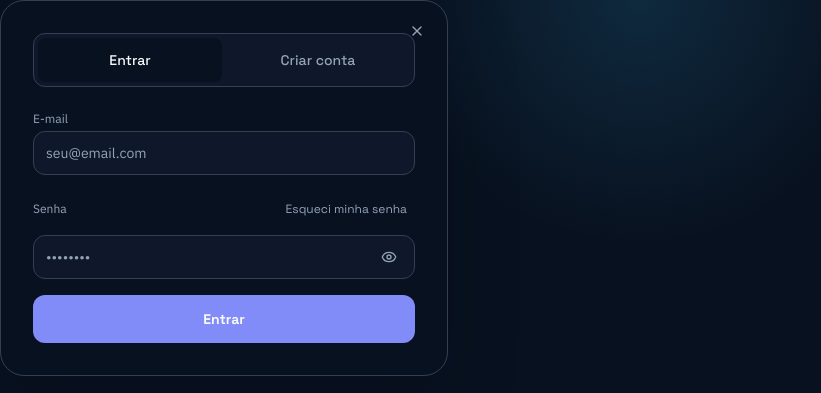
Scenario: AuthPanel — esqueci minha senha › "Voltar para entrar" retorna ao formulário de login
Step 1. Click the button "Esqueci minha senha" → [346, 209], box [278, 187, 415, 231]
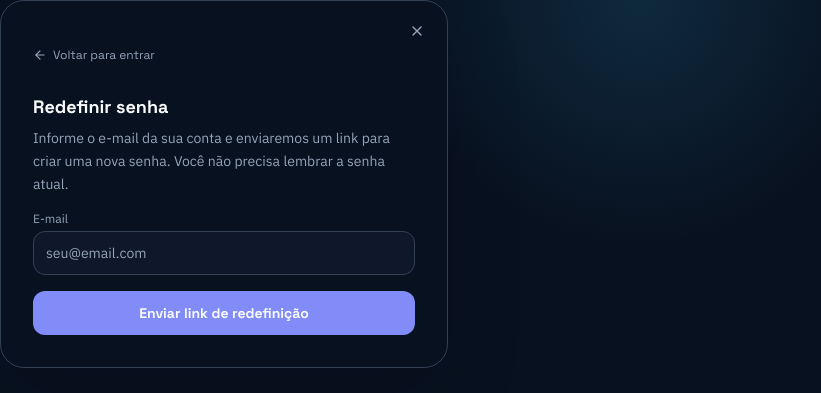
Step 2. Click the button "Voltar para entrar" → [100, 55], box [33, 33, 167, 77]
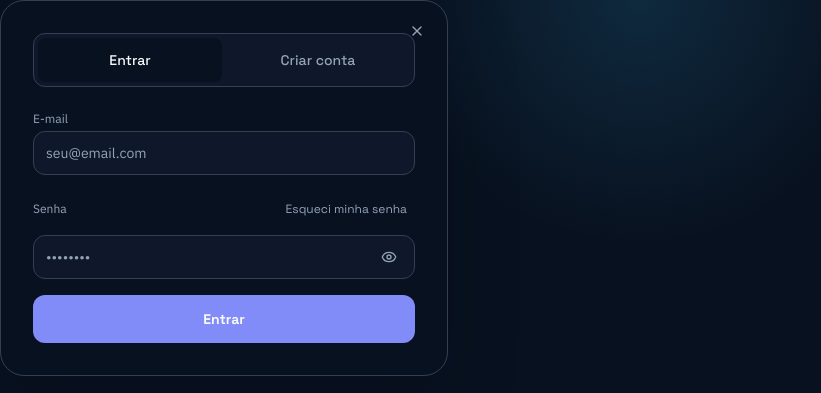
Check: the heading "Redefinir senha" is gone
Check: the number of buttons "Entrar" is 2, box [38, 38, 222, 82]; [33, 295, 415, 343]
